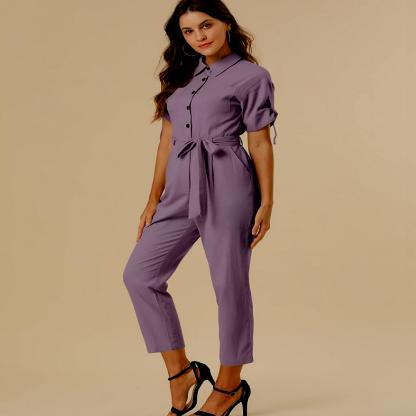dress: (120, 50, 279, 374)
jean: (125, 0, 280, 416)
